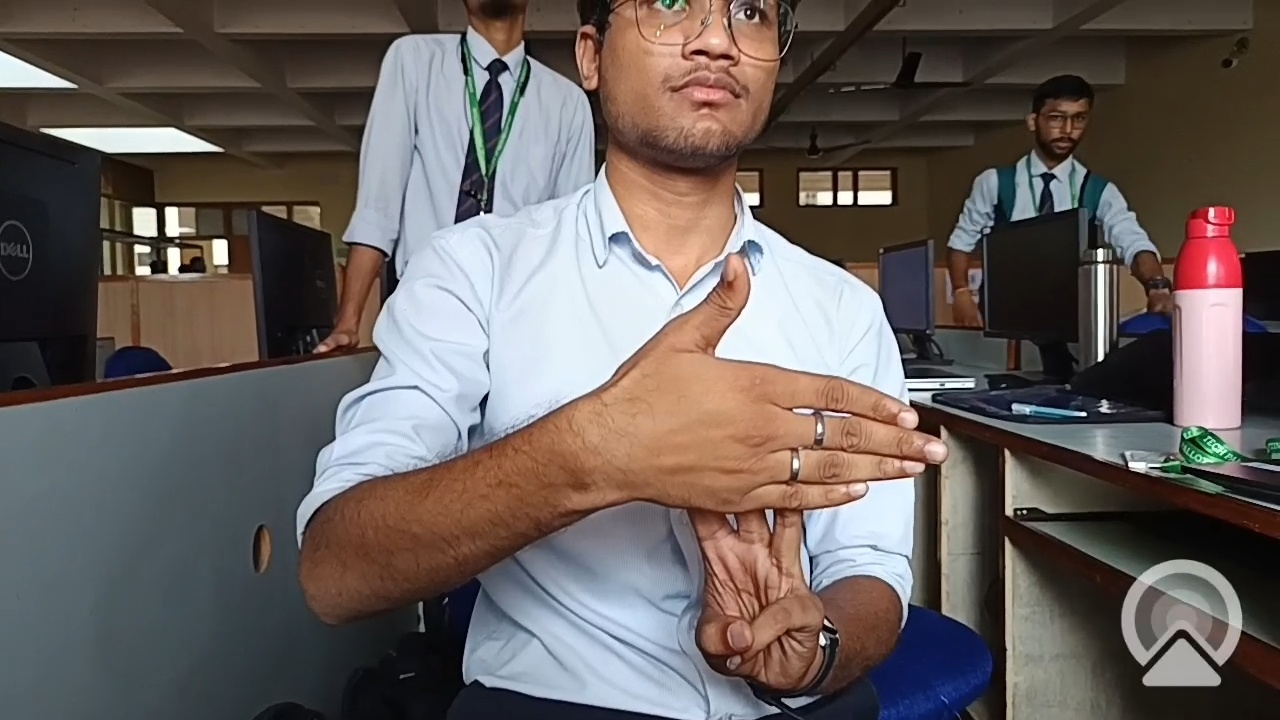M: (579, 231, 961, 719)
